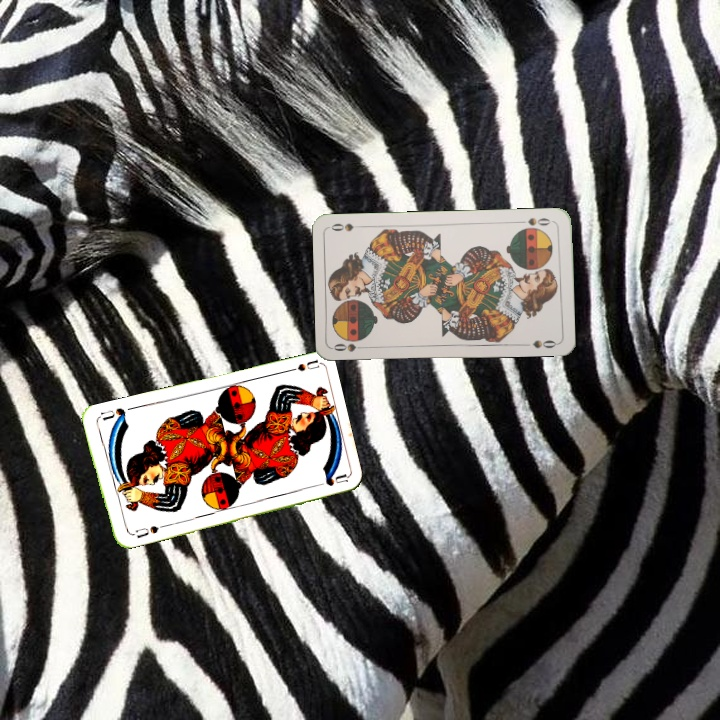SO: (330, 339, 371, 354), (515, 214, 553, 228)
SU: (279, 356, 320, 376), (132, 522, 161, 541)
